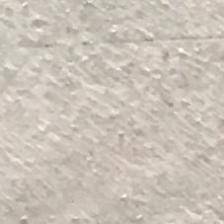Non_Crack: (21, 27, 213, 204)
